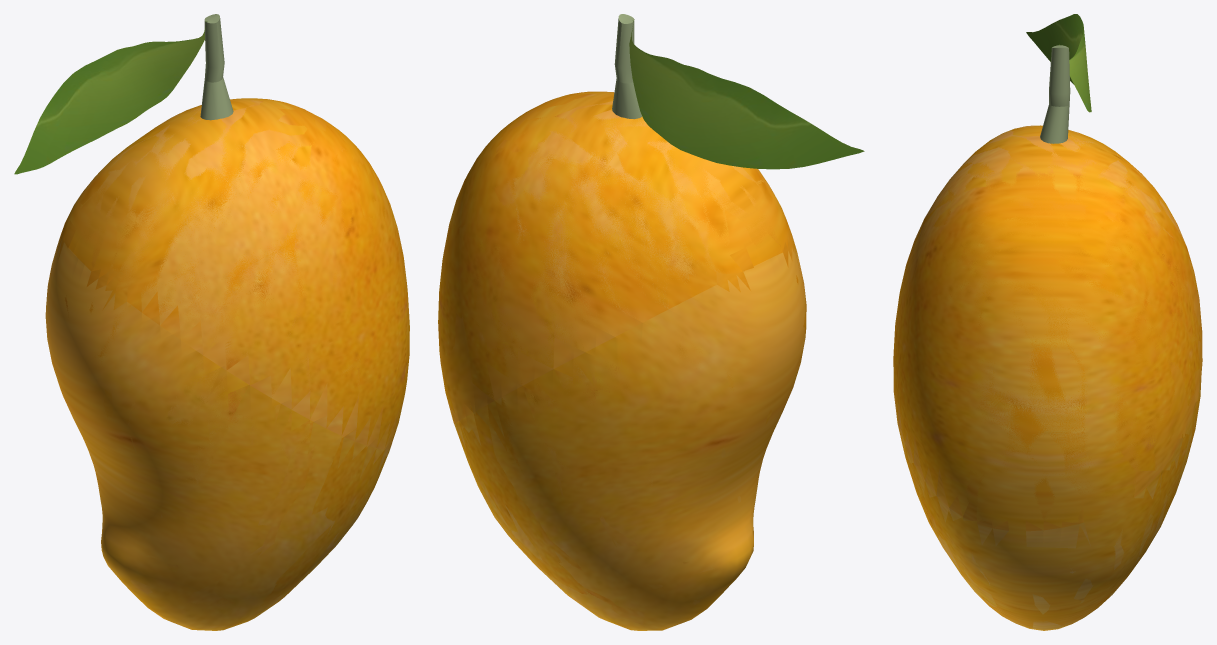
Rendered from mango.fbx.
3 views of the same model, side by side, from view 1: azimuth 30°, elevation 25°; view 2: azimuth 150°, elevation 25°; view 3: azimuth 270°, elevation 25° (orthographic). The views are drawn at different scales.
Visible parts, largest first — view 1: mango_1, mango_cut_B, mango_cut_A1; view 2: mango_cut_B, mango_cut_A1, mango_1; view 3: mango_1, mango_cut_A1, mango_cut_B.
Part boxes in pixels (box(x1,y1,x2,y2)): mango_1: box(14, 16, 409, 628); mango_cut_B: box(45, 236, 390, 630); mango_cut_A1: box(62, 14, 404, 449); mango_cut_B: box(454, 248, 806, 630); mango_cut_A1: box(438, 14, 862, 423); mango_1: box(439, 14, 864, 629); mango_1: box(893, 14, 1201, 630); mango_cut_A1: box(895, 29, 1202, 531); mango_cut_B: box(895, 358, 1202, 630).
Bounding box in the file's own units: 896 × 1326 × 637.
